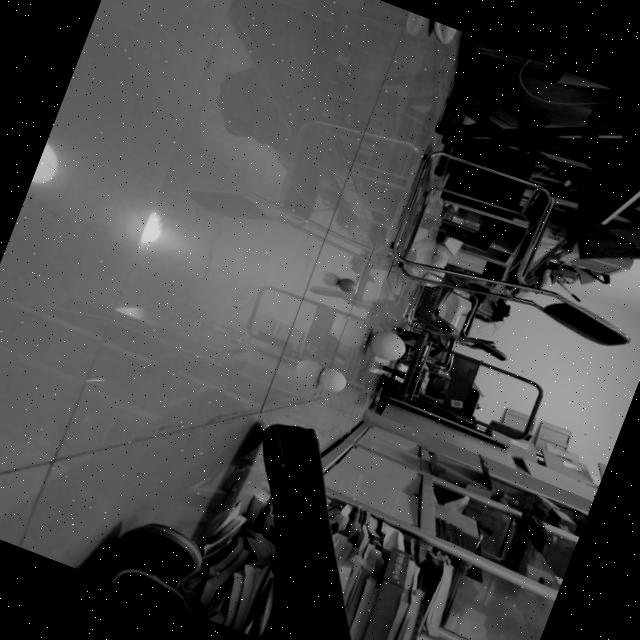ping-pong-ball: (334, 274, 358, 294)
